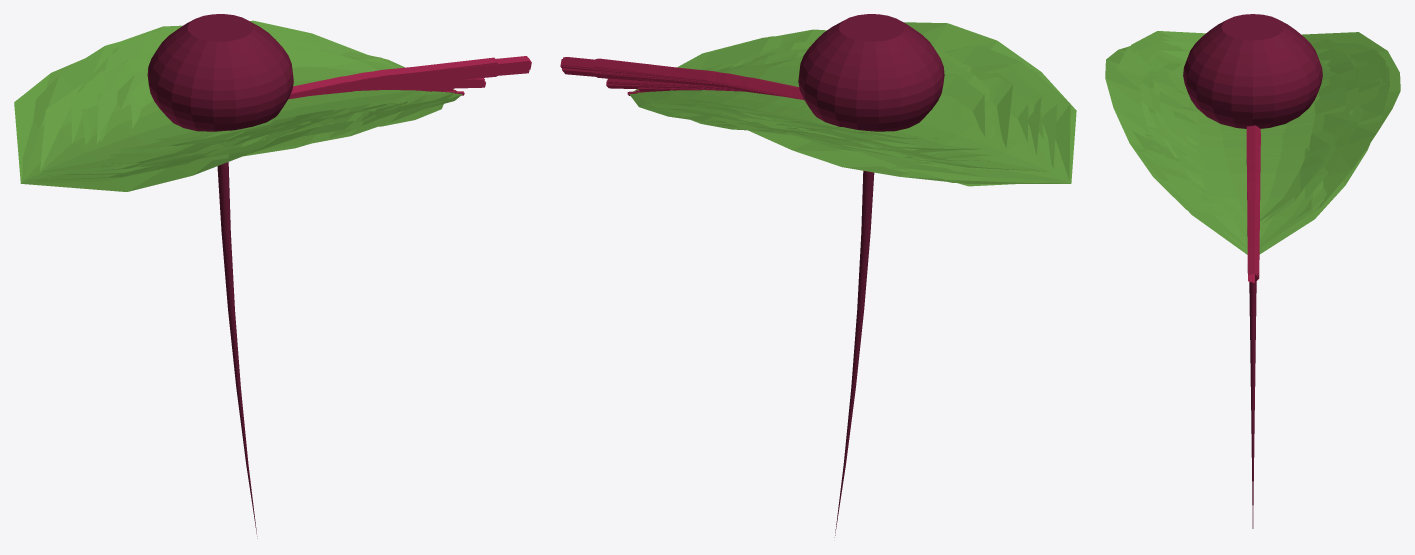
The model's file is beetroot_harvest_v15.articulated.glb.
The picture shows the model from 3 angles, left to right: view 1: azimuth 30°, elevation 25°; view 2: azimuth 150°, elevation 25°; view 3: azimuth 270°, elevation 25°; orthographic projection. The views are drawn at different scales.
Visible parts, largest first — view 1: root, leaf10_link2, leaf09_link2, leaf08_link2, leaf01_link2, leaf00_link2, leaf03_link2, leaf04_link2, leaf12_link2, leaf13_link2, leaf05_link2, leaf08_link0 (+8 smaller); view 2: root, leaf10_link2, leaf08_link2, leaf09_link2, leaf00_link2, leaf03_link2, leaf06_link2, leaf07_link2, leaf01_link2, leaf11_link2, leaf02_link2, leaf13_link2 (+5 smaller); view 3: root, leaf10_link2, leaf09_link2, leaf08_link2, leaf00_link2, leaf01_link2, leaf13_link2, leaf03_link2, leaf07_link2, leaf06_link2, leaf11_link2, leaf04_link2 (+6 smaller).
Part boxes in pixels (x1,y1,x2,y2): root: (147,14,293,538); leaf10_link2: (40,45,421,174); leaf09_link2: (14,20,443,191); leaf08_link2: (22,32,456,181); leaf01_link2: (96,46,421,152); leaf00_link2: (48,25,464,175); leaf03_link2: (81,35,441,155); leaf04_link2: (130,66,337,142); leaf12_link2: (70,67,374,164); leaf13_link2: (97,37,426,153); leaf05_link2: (77,57,405,171); leaf08_link0: (377,58,531,85); root: (798,14,944,537); leaf10_link2: (671,54,1051,171); leaf08_link2: (635,35,1070,186); leaf09_link2: (649,22,1076,183); leaf00_link2: (627,37,1057,182); leaf03_link2: (650,29,1012,161); leaf06_link2: (730,41,1041,170); leaf07_link2: (739,51,985,150); leaf01_link2: (668,65,994,149); leaf11_link2: (704,56,999,157); leaf02_link2: (771,52,1028,161); leaf13_link2: (674,46,993,153); root: (1183,14,1322,528); leaf10_link2: (1148,38,1349,222); leaf09_link2: (1105,32,1400,213); leaf08_link2: (1131,31,1386,247); leaf00_link2: (1117,37,1389,254); leaf01_link2: (1159,58,1335,223); leaf13_link2: (1140,60,1363,222); leaf03_link2: (1131,50,1382,221); leaf07_link2: (1168,61,1345,190); leaf06_link2: (1135,41,1380,195); leaf11_link2: (1153,63,1352,208); leaf04_link2: (1173,76,1330,154).
Size of the model in its own units: 0.2011 by 0.1972 by 0.1064.
Materials: 1 (1 with a texture image).
